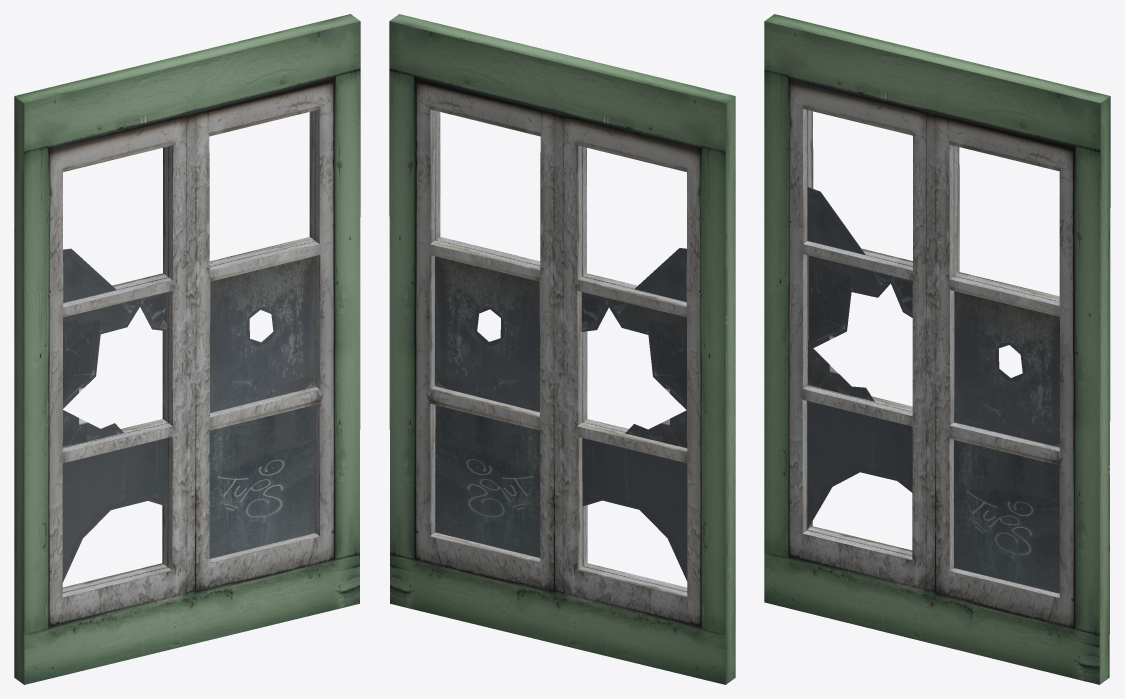
Rendered from Windows_04.fbx.
The picture shows the model from 3 angles, left to right: view 1: azimuth 30°, elevation 25°; view 2: azimuth 150°, elevation 25°; view 3: azimuth 330°, elevation 25°; orthographic projection.
Parts seen in each view (by area): view 1: Windows_04, Windows_04glass (×5); view 2: Windows_04, Windows_04glass (×5); view 3: Windows_04, Windows_04glass (×5).
Boxes of the visible parts, <box> form: Windows_04: <box>14,14,360,684</box>; Windows_04glass (×5): <box>62,248,315,582</box>; Windows_04: <box>389,14,735,684</box>; Windows_04glass (×5): <box>435,248,687,581</box>; Windows_04: <box>764,14,1110,684</box>; Windows_04glass (×5): <box>807,187,1059,593</box>.
Bounding box in the file's own units: 114 × 5.89 × 188.
Materials: 2 (2 with a texture image).
